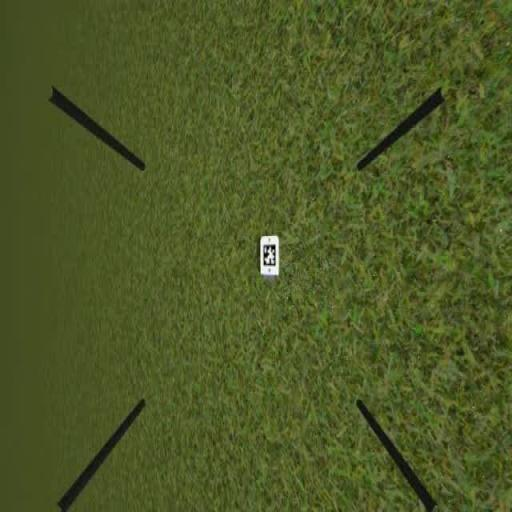UGV: (258, 232, 282, 280)
